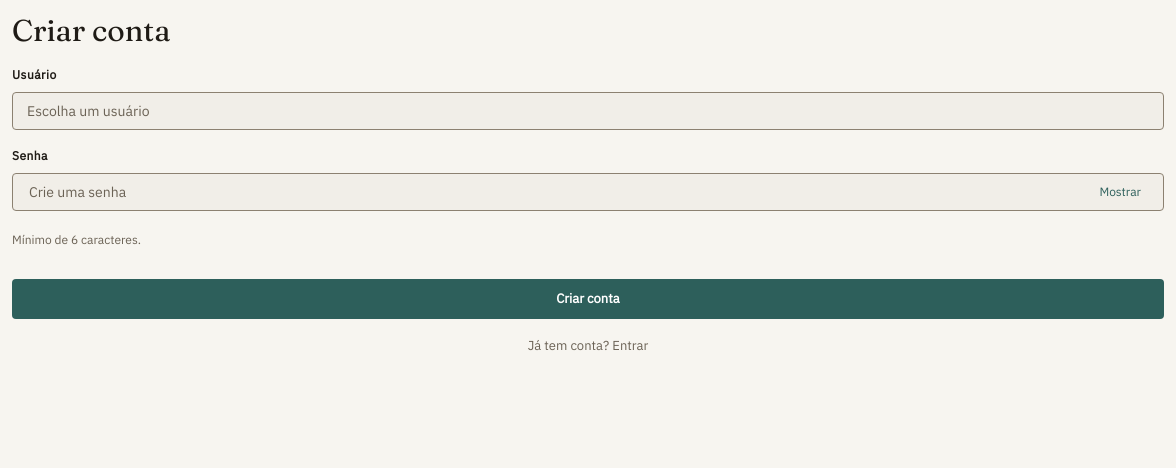
Test: RegisterForm › shows minimum-length validation errors alongside the persistent helper text
Type "ab" into the field labelled "Usuário" at (588, 111), box [12,92,1164,130]
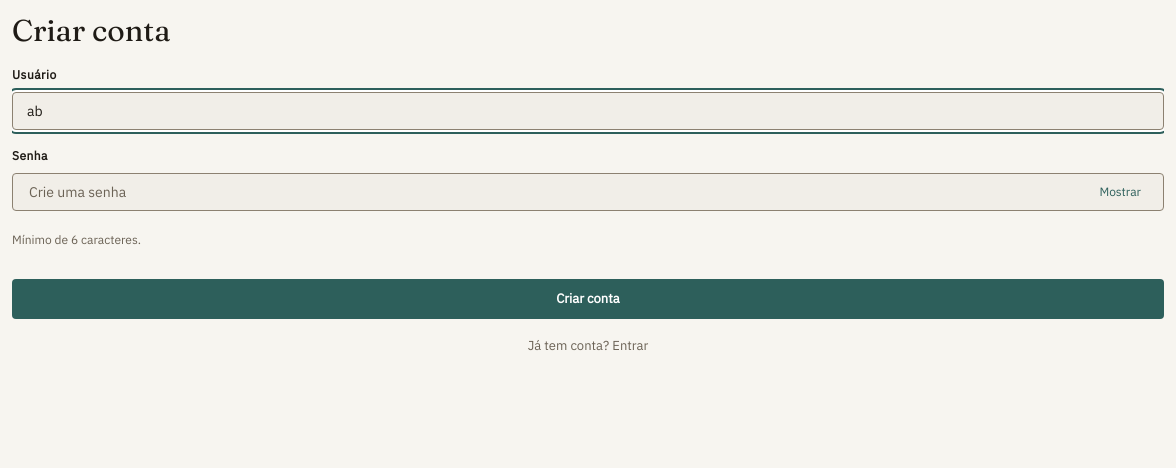
Type "123" into the password field labelled "Senha" at (555, 192), box [27,174,1083,210]
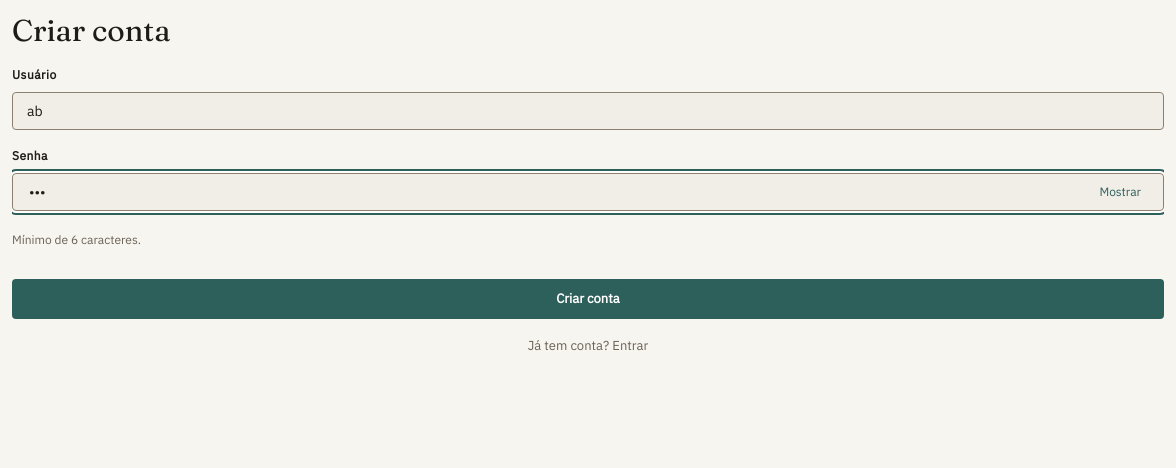
Click the button "Criar conta" at (588, 299), box [12,279,1164,319]
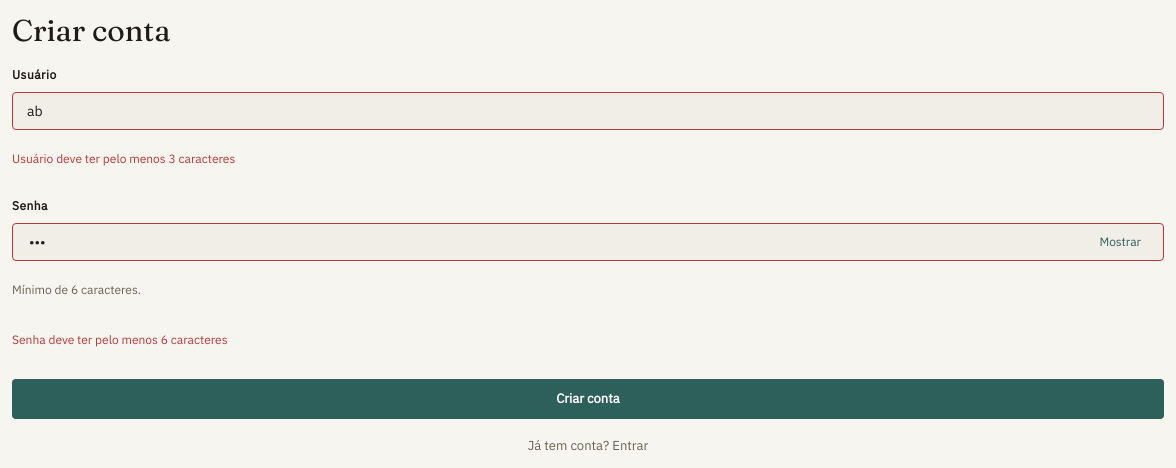
Expected: the text "Mínimo de 6 caracteres." is shown, [12,282,141,297]
Expected: the text "Usuário deve ter pelo menos 3 caracteres" is shown, [12,151,235,166]
Expected: the text "Senha deve ter pelo menos 6 caracteres" is shown, [12,332,228,347]
